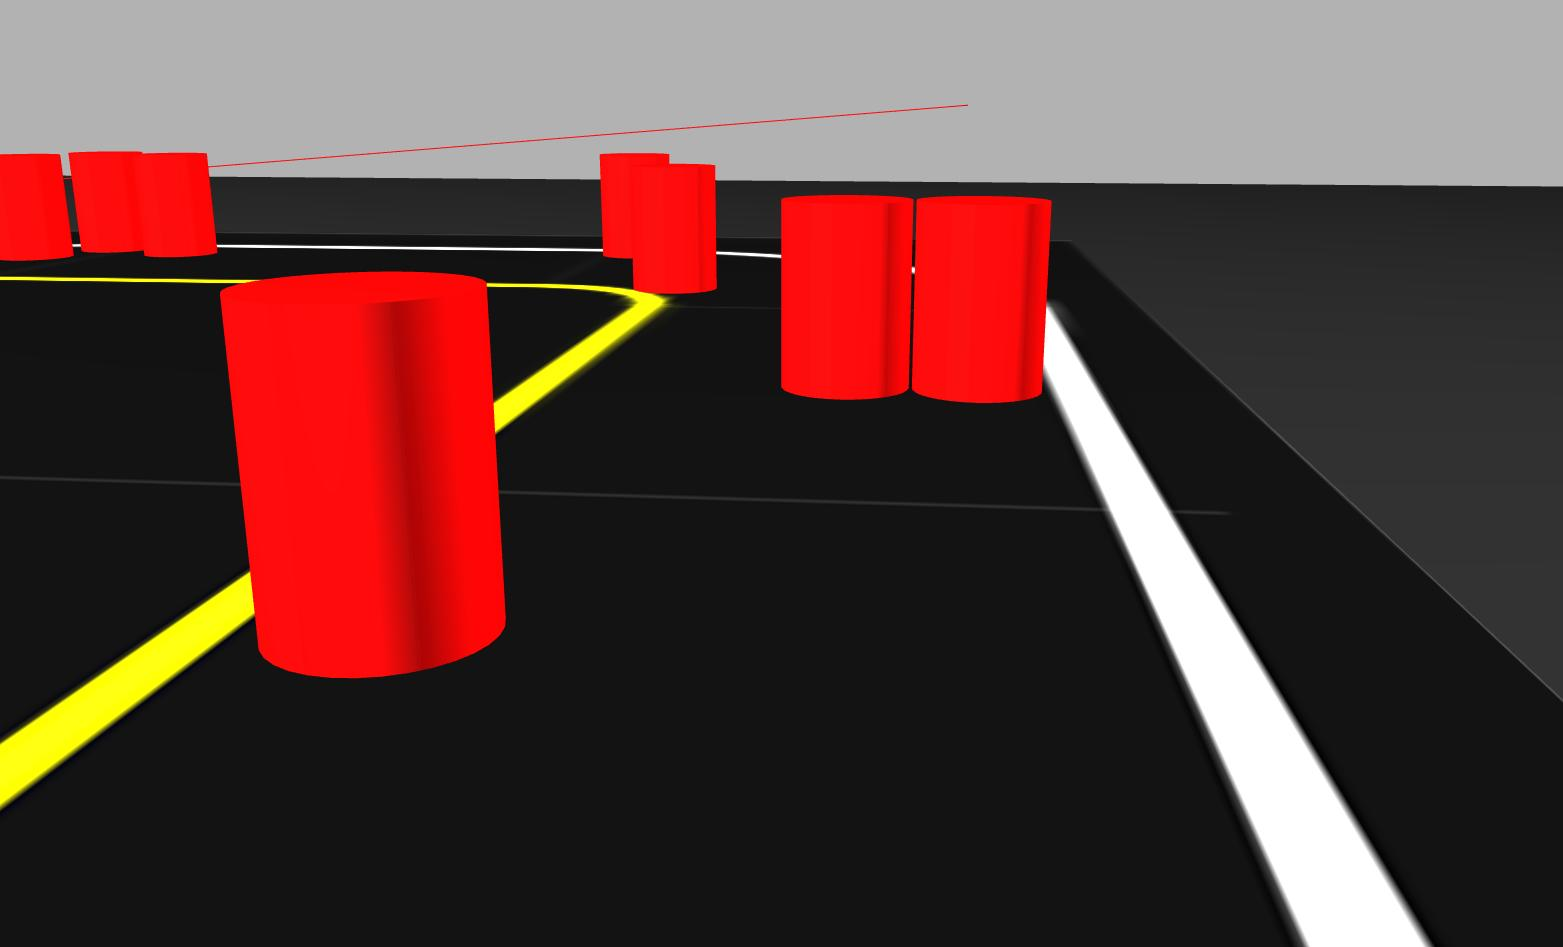obstacle: (221, 270, 525, 682), (774, 188, 913, 405), (913, 192, 1049, 409), (629, 159, 723, 296), (132, 147, 228, 262), (1, 150, 85, 262), (69, 144, 145, 262), (596, 144, 670, 264)
